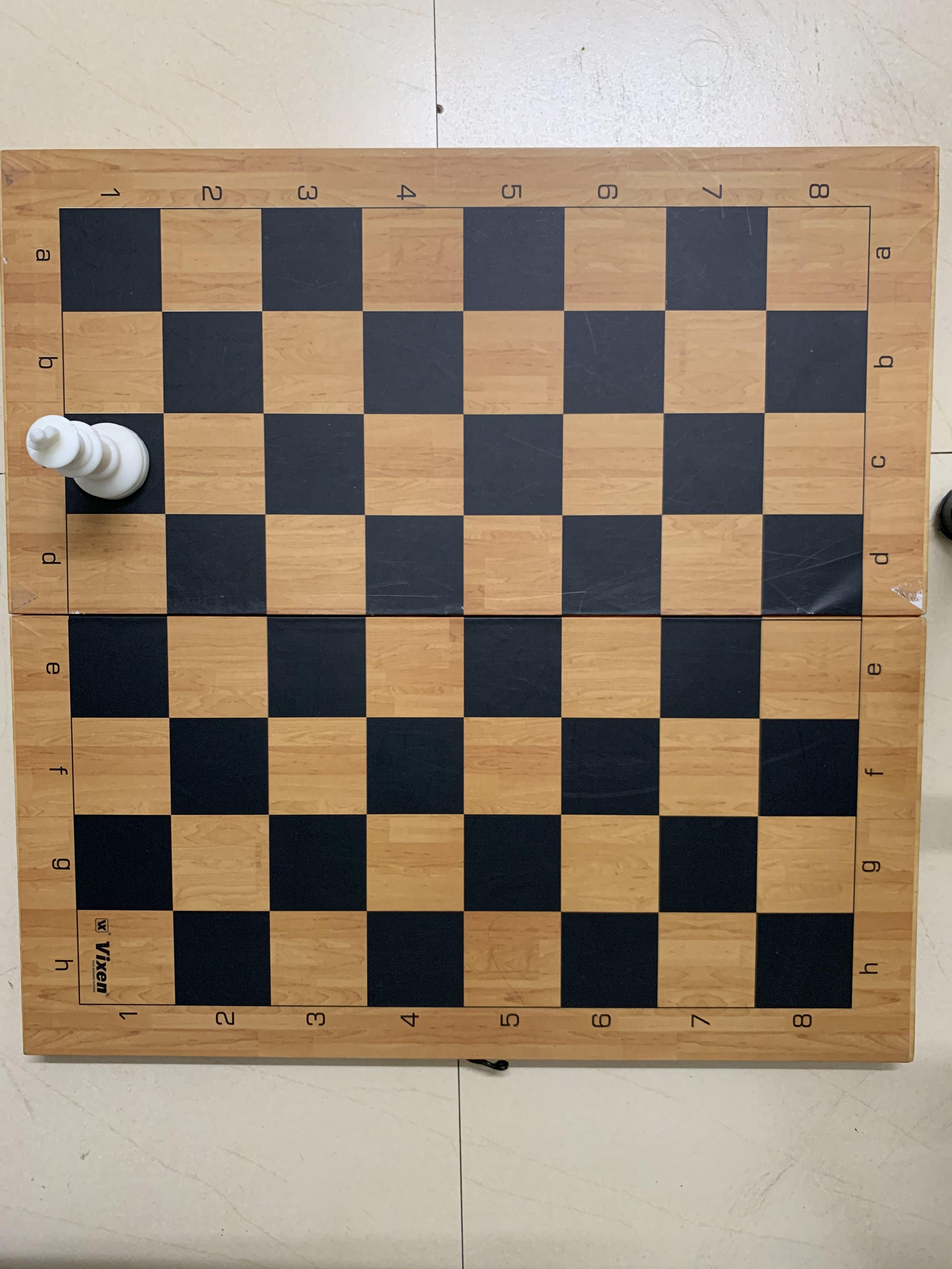white_king: (21, 415, 165, 515)
